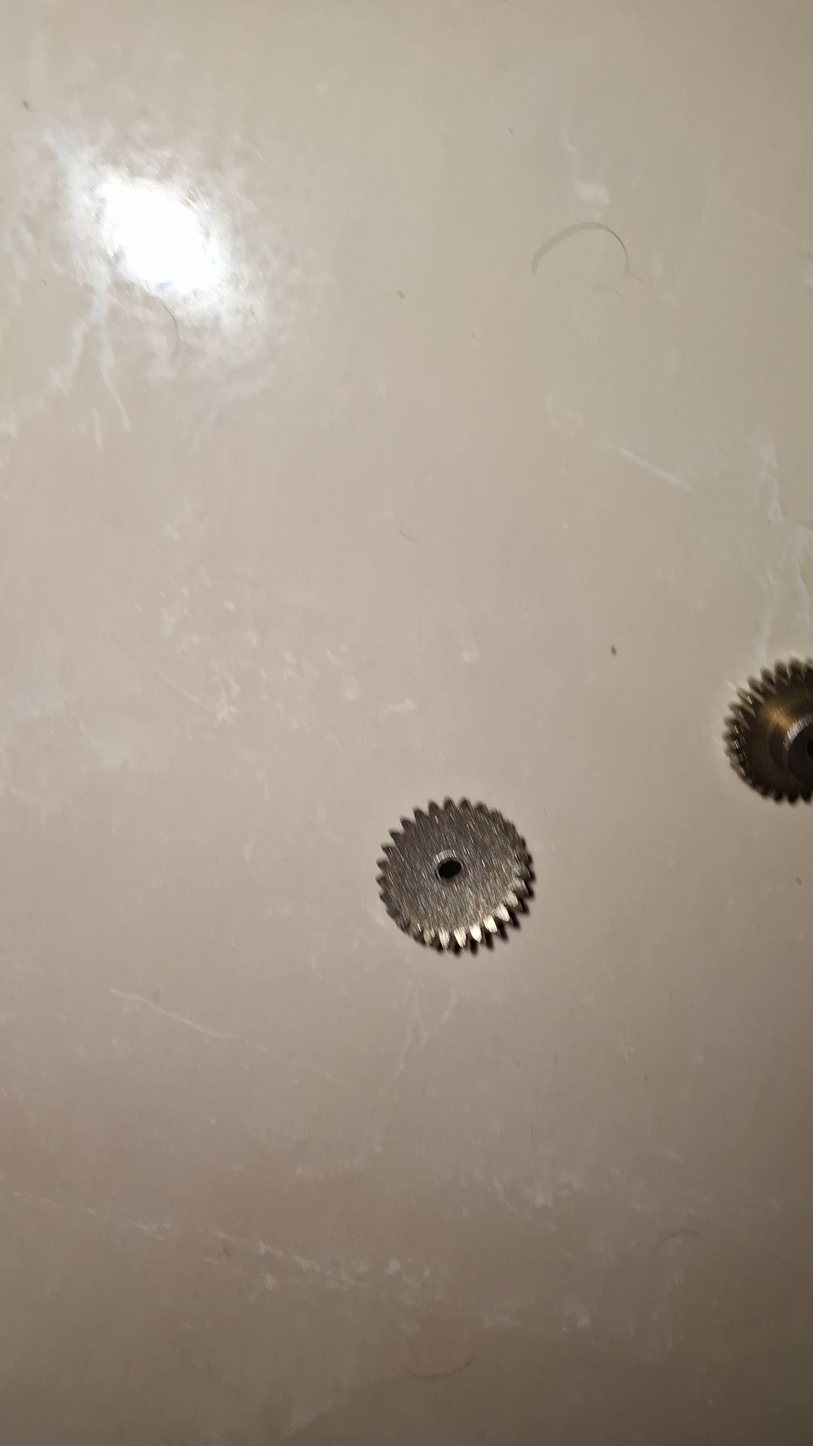spur gear: (378, 799, 532, 949), (725, 659, 813, 802)
